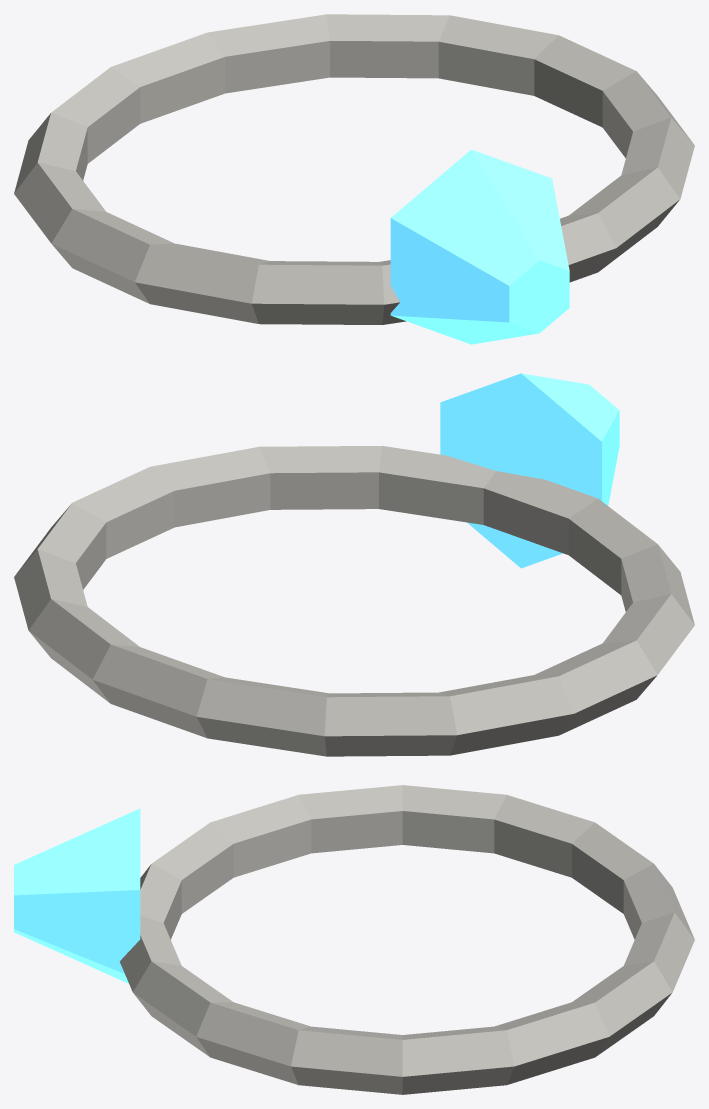
File: MoontearRing.glb
The picture shows the model from 3 angles, top to bottom: view 1: azimuth 30°, elevation 25°; view 2: azimuth 150°, elevation 25°; view 3: azimuth 270°, elevation 25°; orthographic projection. The views are drawn at different scales.
Visible parts, largest first — view 1: MoontearRing; view 2: MoontearRing; view 3: MoontearRing.
Boxes of the visible parts, x1,y1,x2,y2 form: MoontearRing: (14,14,694,344); MoontearRing: (14,373,694,756); MoontearRing: (14,785,694,1094).
Bounding box in the file's own units: 0.4876 × 0.15 × 0.5124.
